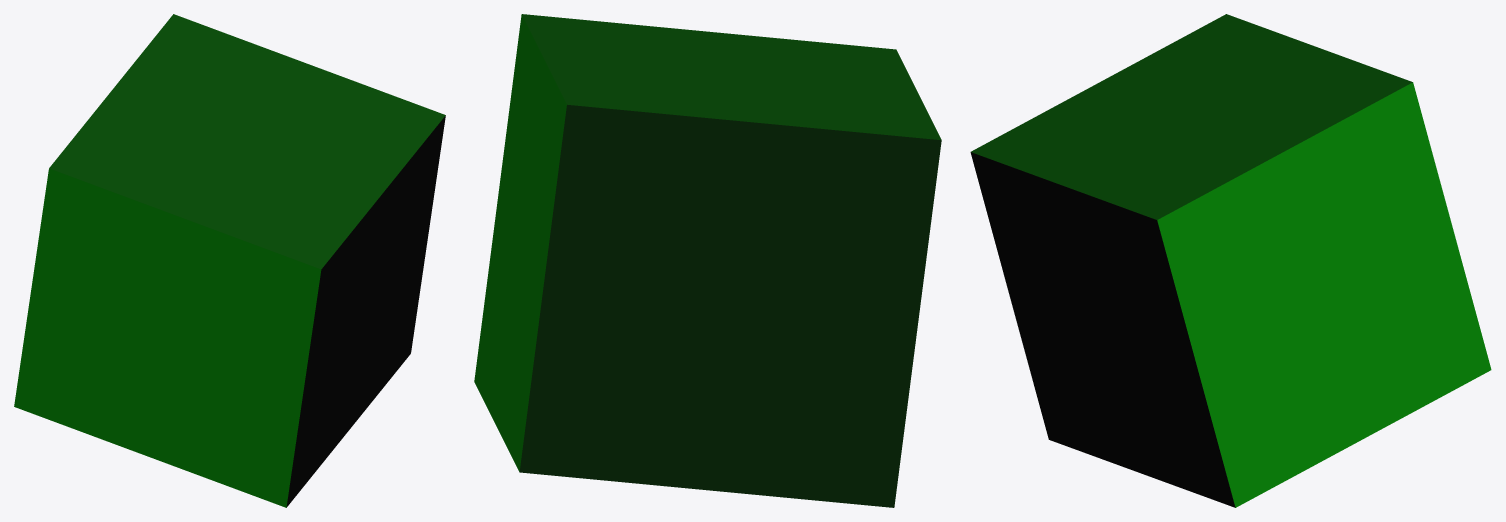
The model's file is BlockViewmodel.fbx.
3 views of the same model, side by side, from view 1: azimuth 30°, elevation 25°; view 2: azimuth 150°, elevation 25°; view 3: azimuth 270°, elevation 25° (orthographic). The views are drawn at different scales.
Parts seen in each view (by area): view 1: BlockViewmodel; view 2: BlockViewmodel; view 3: BlockViewmodel.
Part boxes in pixels (bbox=[...]): BlockViewmodel: bbox=[14, 14, 445, 507]; BlockViewmodel: bbox=[474, 14, 941, 507]; BlockViewmodel: bbox=[970, 14, 1491, 507].
Size of the model in its own units: 32.8 by 37.34 by 30.58.
